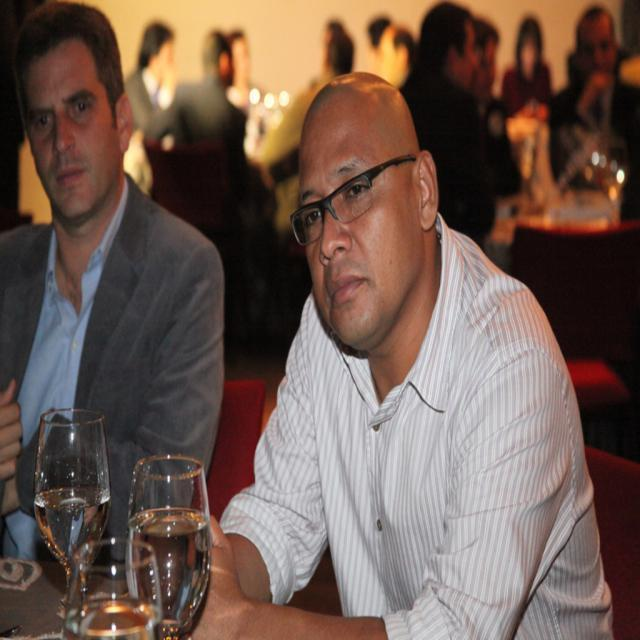closed-mouth: (326, 265, 370, 307), (51, 156, 85, 198)
